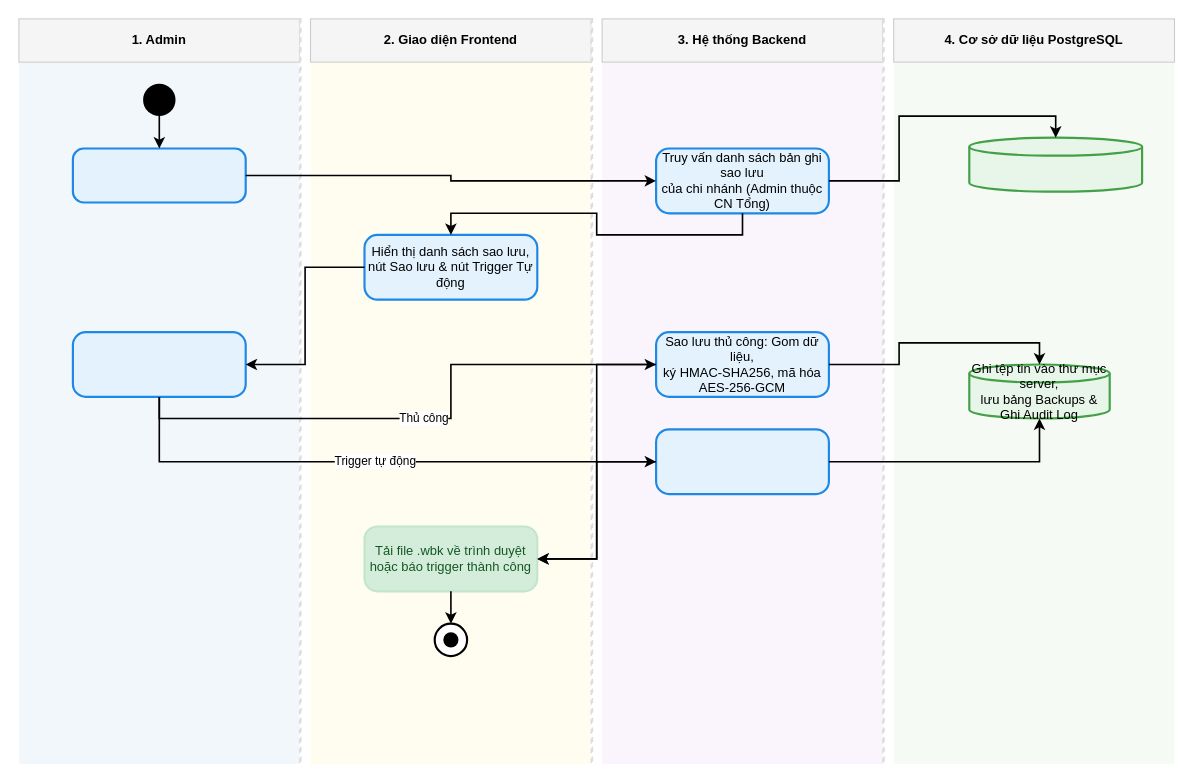
Some shapes in this 1193 by 784 pixel diagram are drawn without their labels. The shapes that lost their labels are listed below. From the top down, each one's box as (x1, y1, x2, y2) in pixels, then its label:
(71, 147, 246, 203): Mở xem Lịch sử sao lưu
(968, 136, 1143, 192): Bảng Backups
(71, 330, 246, 397): Click nút 'Sao lưu thủ công' (Export) hoặc 'Trigger sao lưu tự động'
(654, 428, 829, 495): Trigger tự động (ADMIN only): chạy task sao lưu cho tất cả CN
